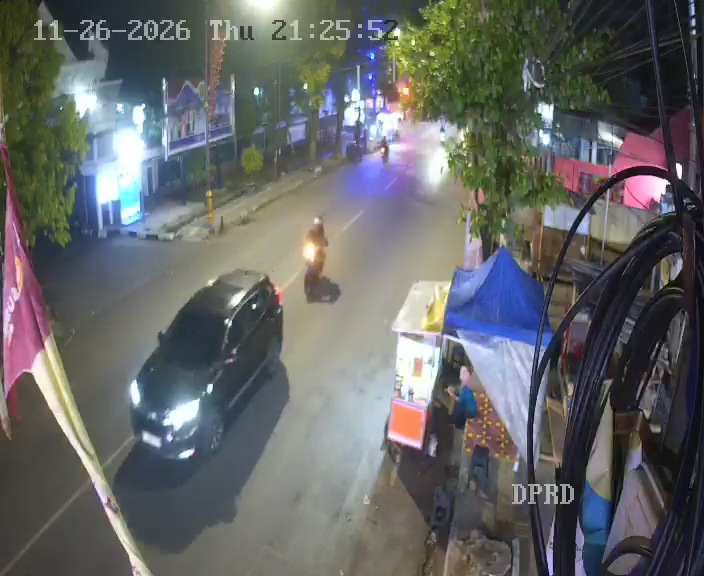Gerobak: (384, 280, 452, 457)
